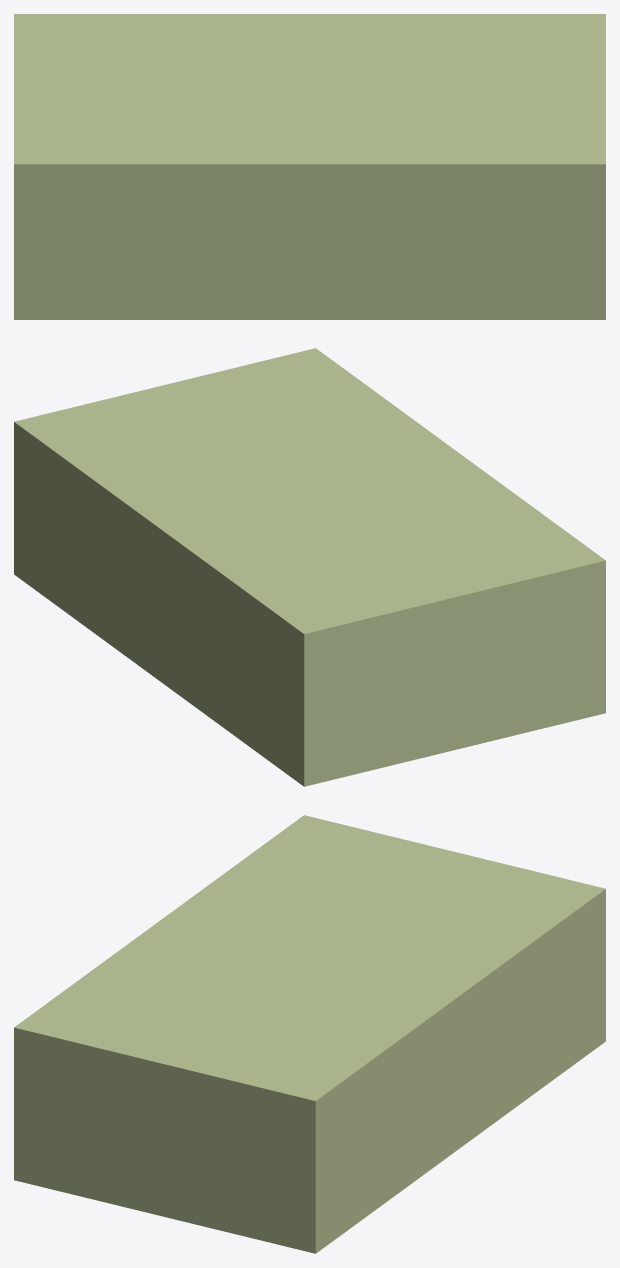
Rendered from ground_10.gltf.
3 renders of one model, top to bottom at view 1: azimuth 30°, elevation 25°; view 2: azimuth 150°, elevation 25°; view 3: azimuth 270°, elevation 25°, orthographic. The views are drawn at different scales.
Parts seen in each view (by area): view 1: ground_32; view 2: ground_32; view 3: ground_32.
Boxes of the visible parts, bbox=[...] form: ground_32: bbox=[14, 14, 605, 319]; ground_32: bbox=[14, 348, 605, 786]; ground_32: bbox=[14, 815, 605, 1253].
Bounding box in the file's own units: 6.99 × 1.74 × 6.11.
